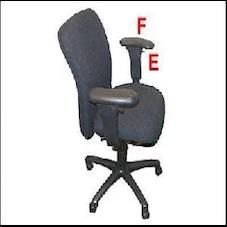chair: (40, 0, 190, 224)
